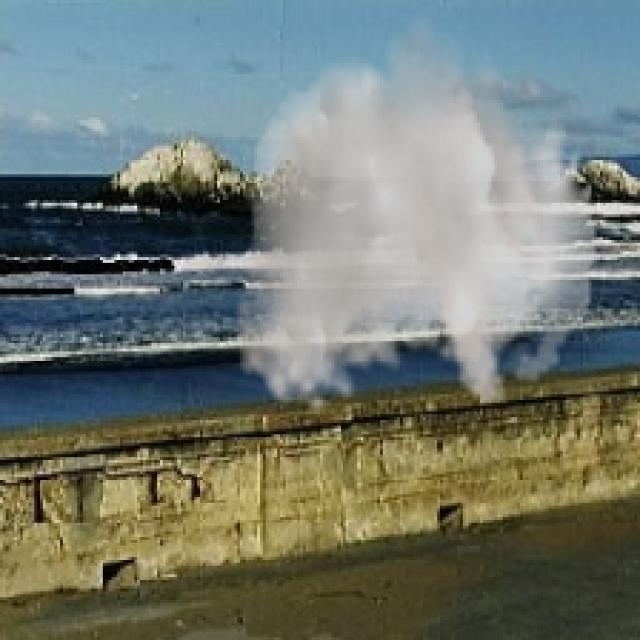smoke: (234, 6, 597, 420)
